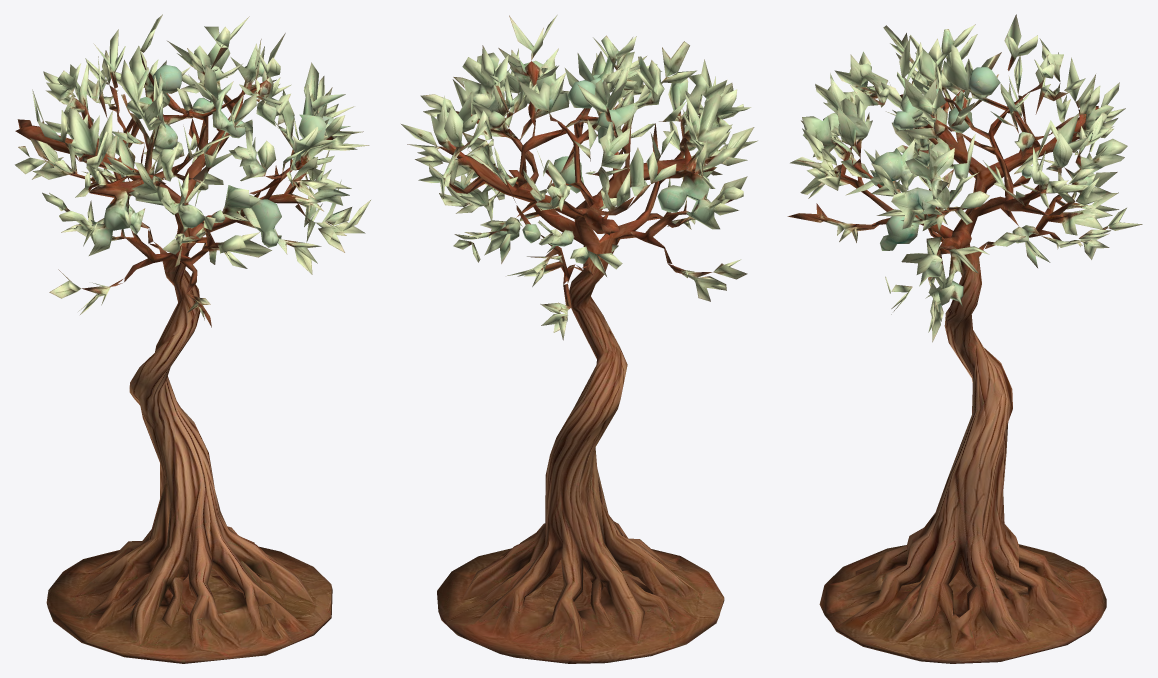
The model's file is olive.glb.
3 views of the same model, side by side, from view 1: azimuth 30°, elevation 25°; view 2: azimuth 150°, elevation 25°; view 3: azimuth 270°, elevation 25° (orthographic).
Size of the model in its own units: 1.1 by 1.91 by 1.11.
1 material, 1 textured.
